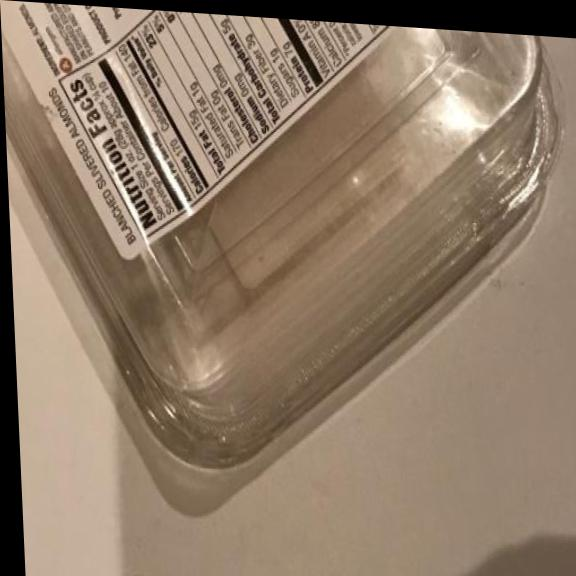Plastik: (0, 0, 575, 511)
